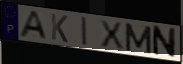A: (17, 10, 49, 41)
I: (80, 15, 89, 48)
K: (50, 12, 69, 45)
M: (124, 22, 154, 55)
N: (151, 24, 178, 59)
X: (98, 19, 126, 51)
